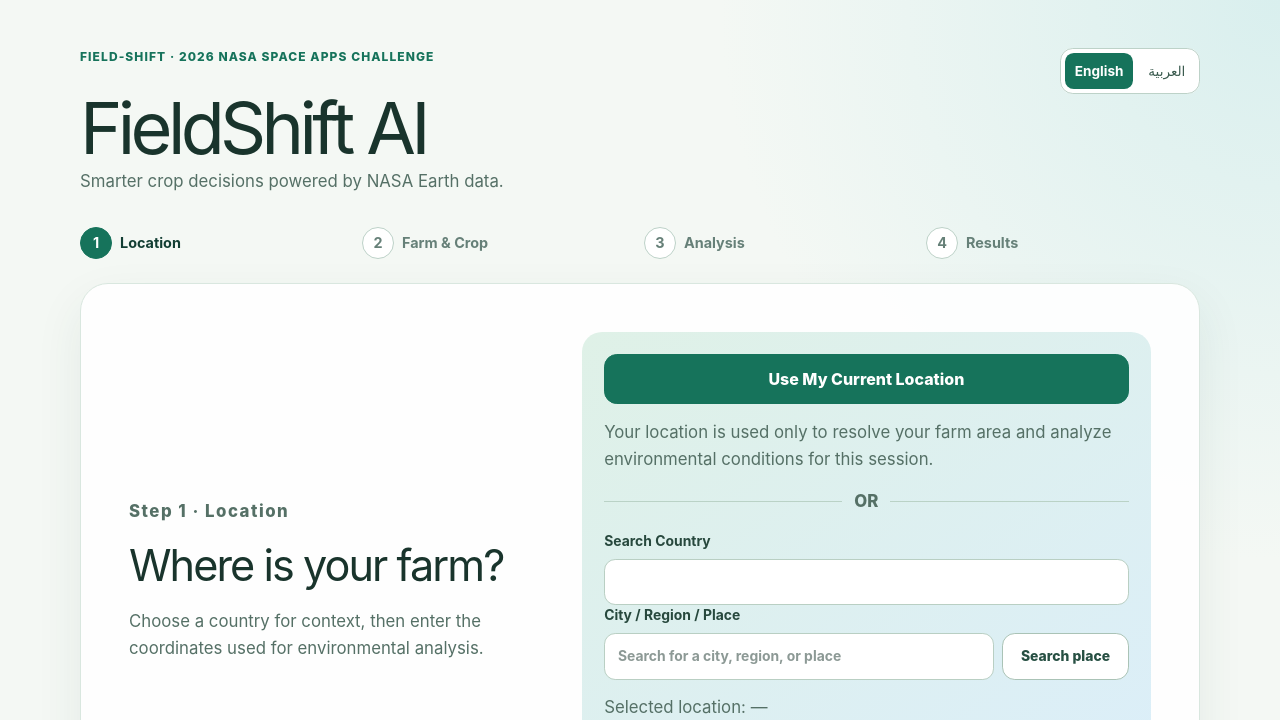
it: farmer-friendly location selection › reports denied and unavailable GPS without fabricating coordinates
Click the button "Use My Current Location": (866, 379) [604,354,1129,404]
(page scrolled)
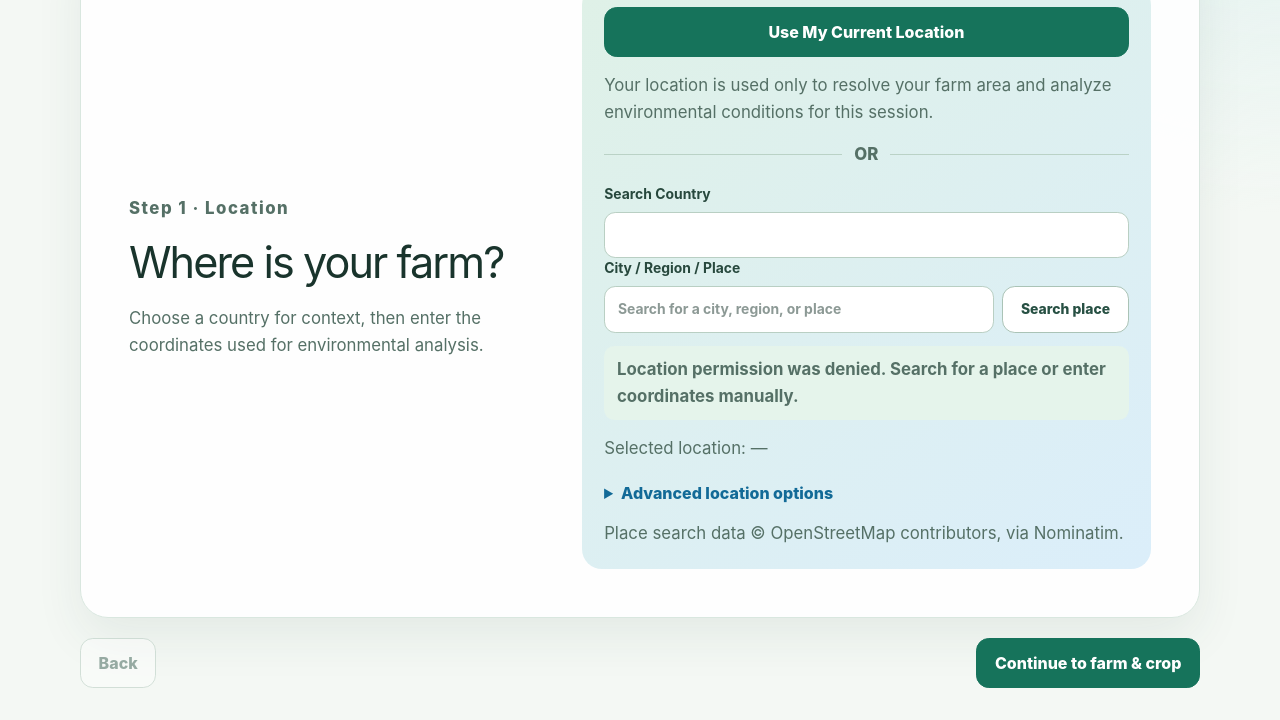
Check: the text "Location permission was denied" is shown, box [617,359,1106,406]
